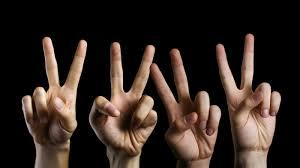peace_sign: (214, 32, 291, 155), (149, 48, 224, 160), (88, 40, 159, 157), (18, 34, 90, 147)
